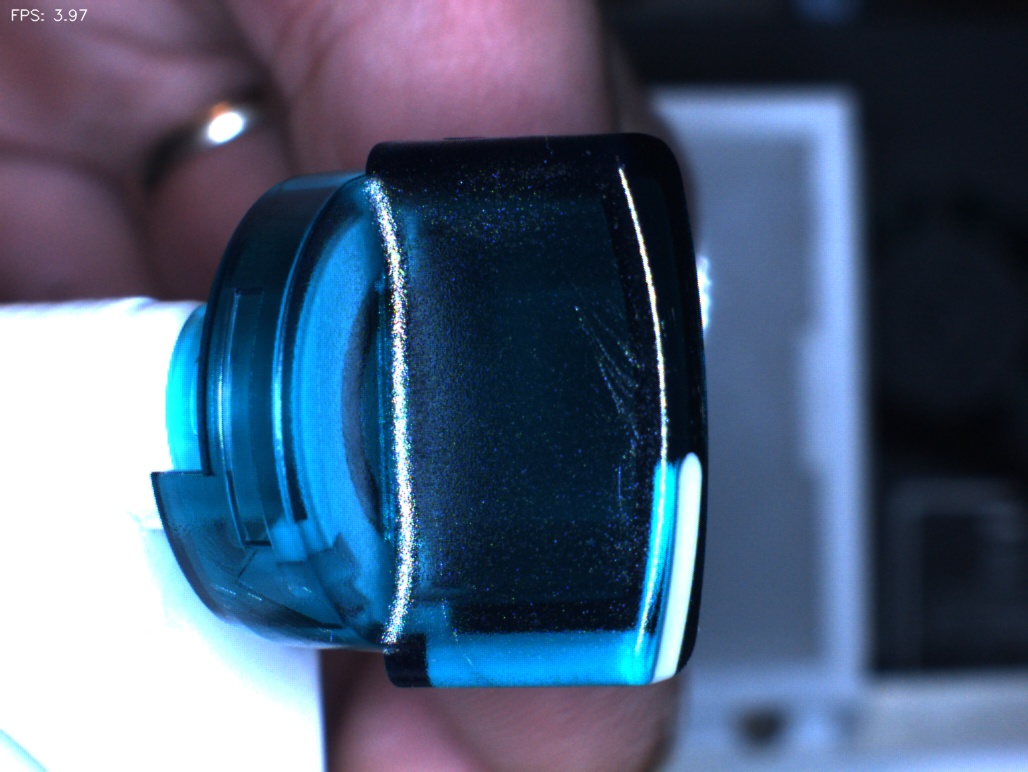Givrage: (557, 281, 668, 506)
